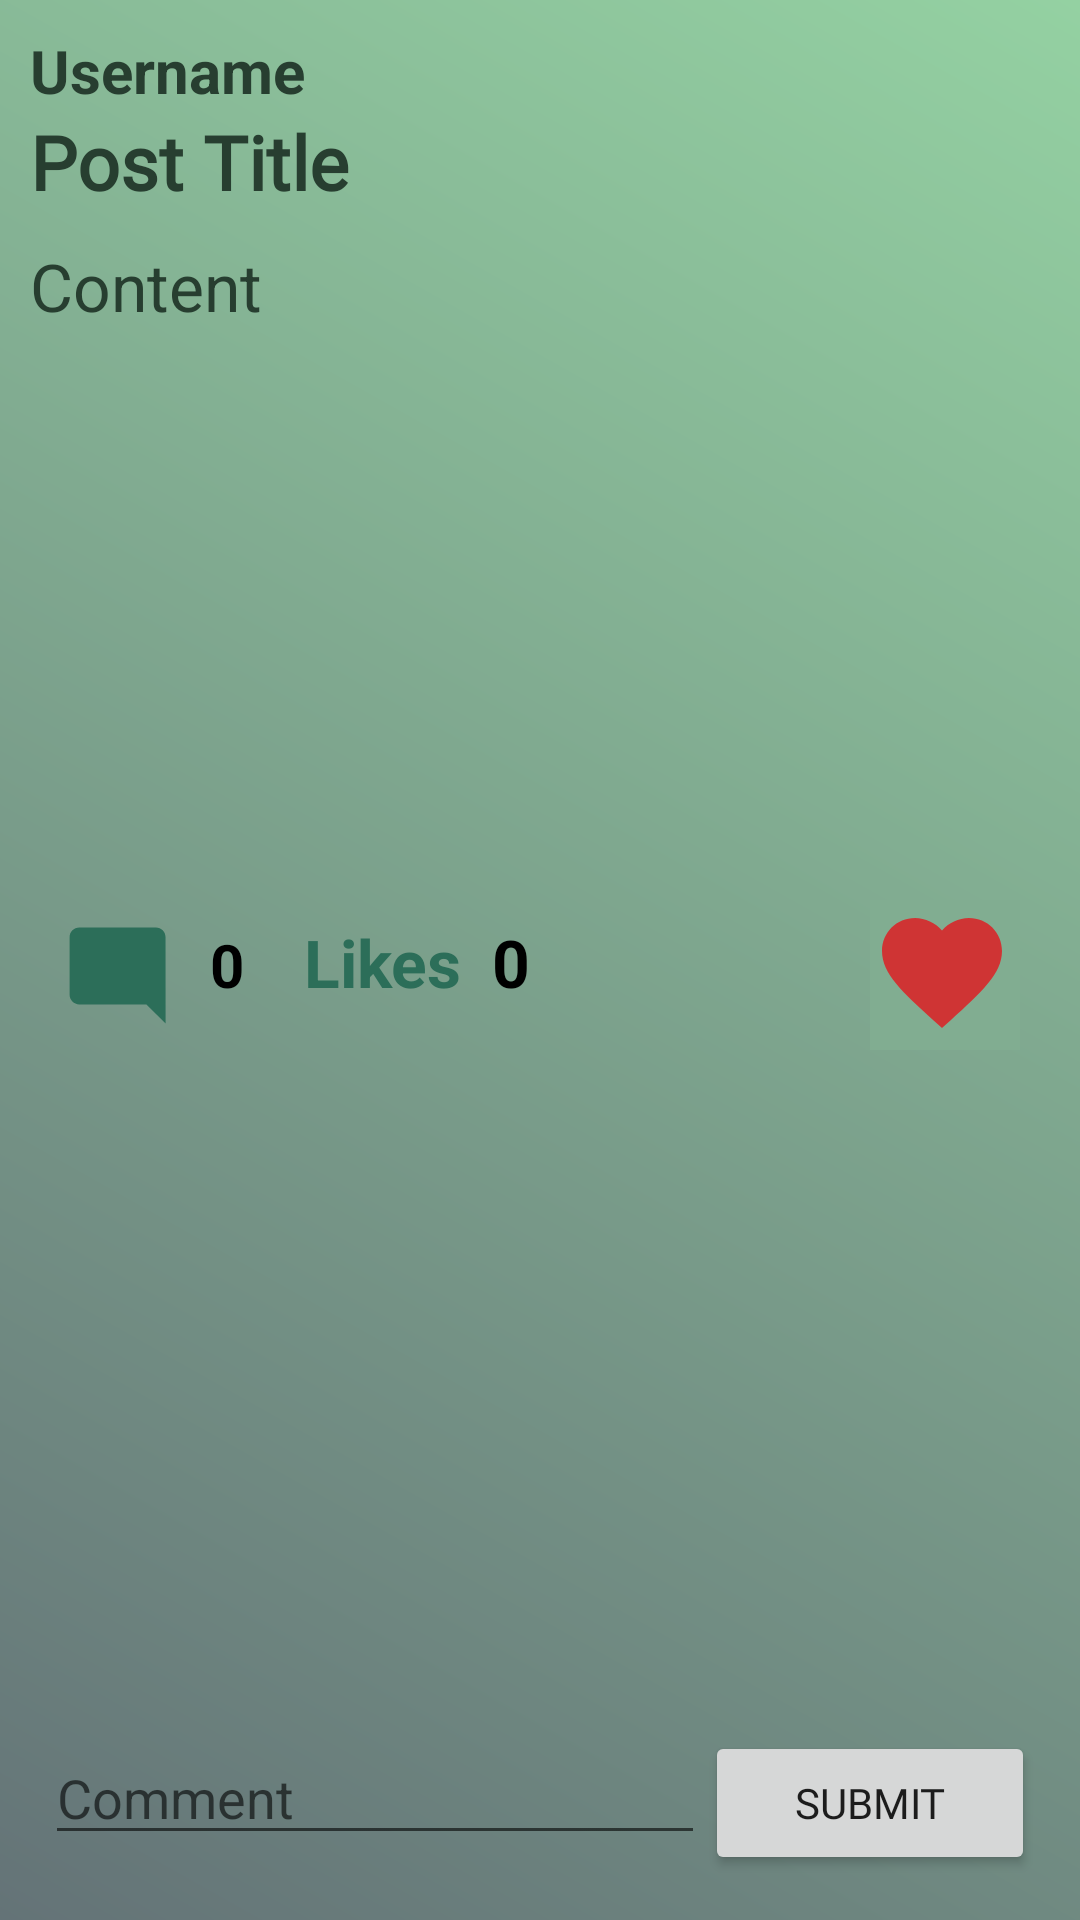

Icons on this 1080 x 1920 Android screen, each with the point to tap as [x,y]:
comment: [117,975]
like: [942,973]
